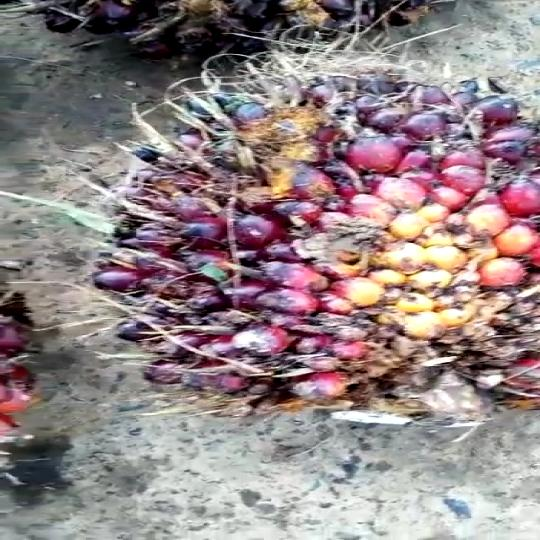masak: (81, 53, 540, 437)
